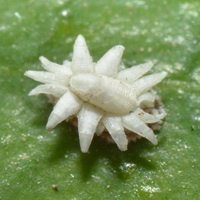insect: (24, 35, 166, 151)
